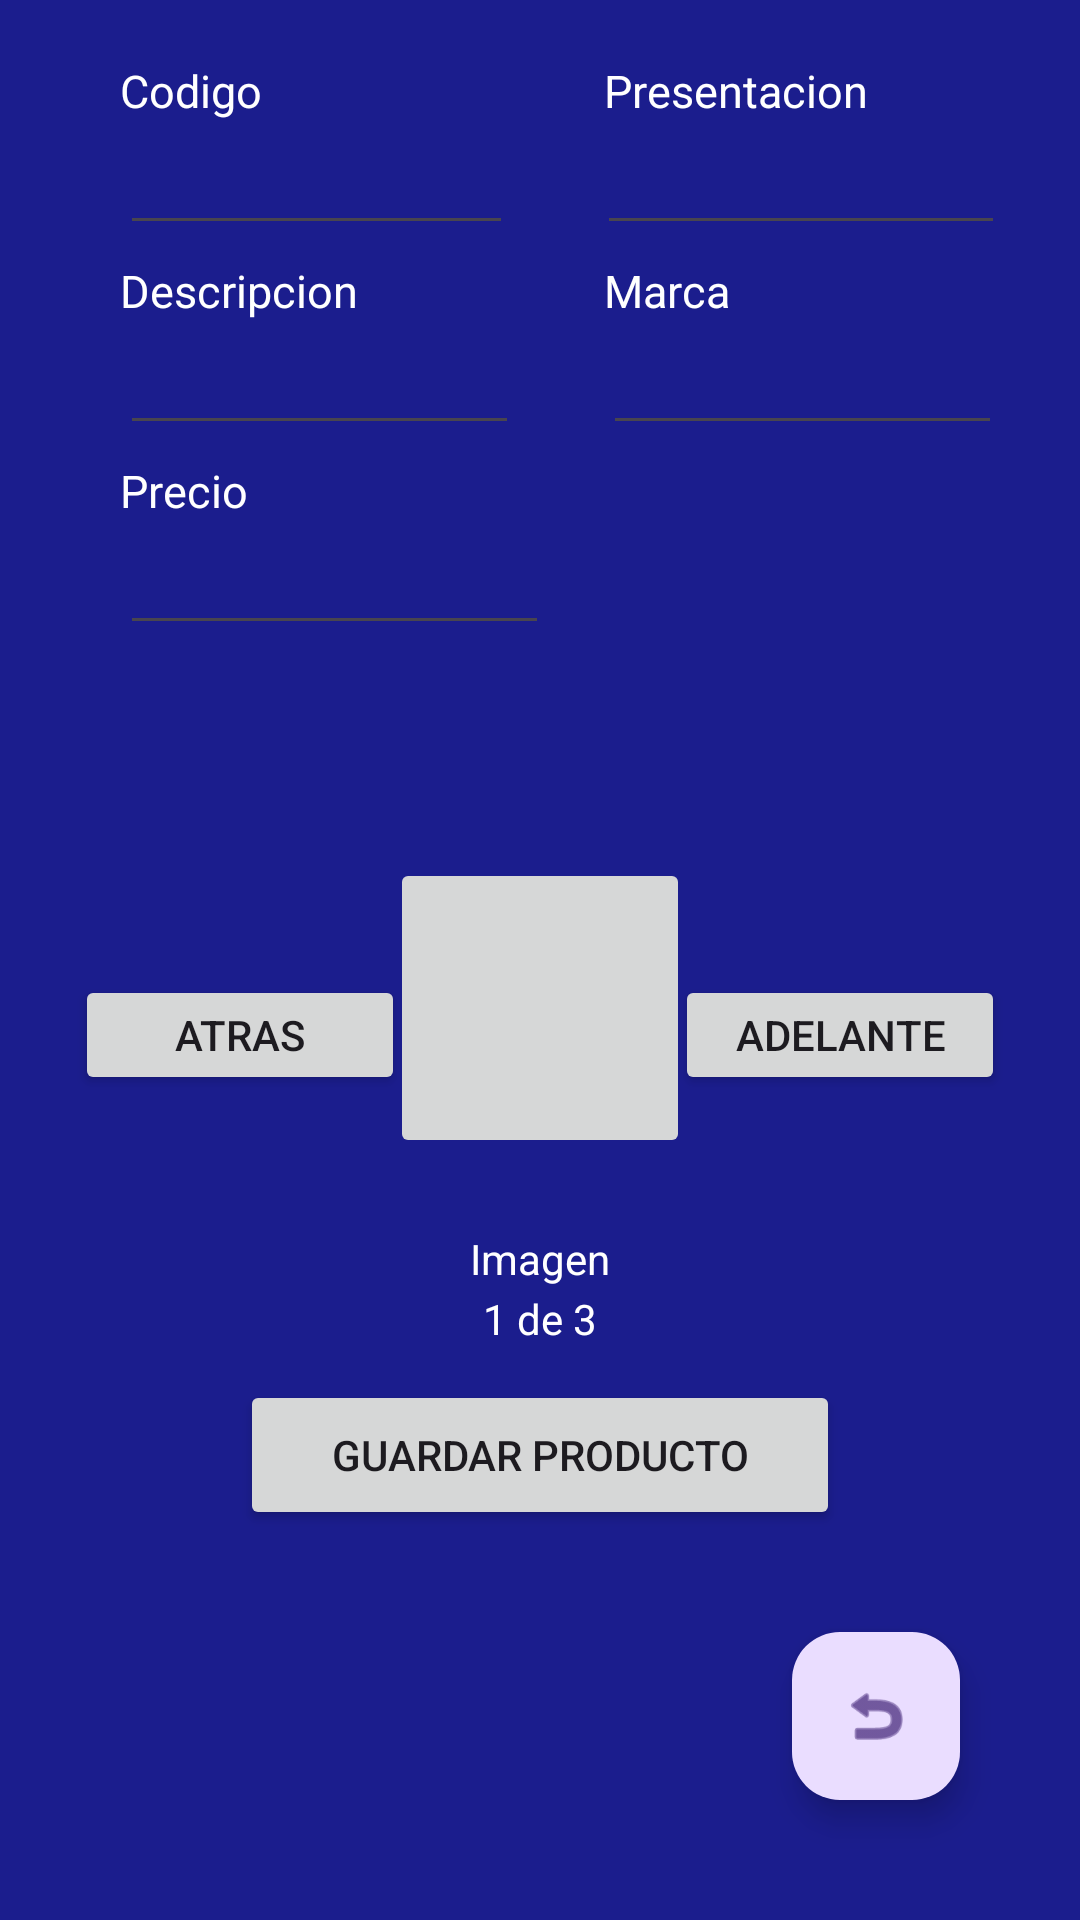

Icons on this 1080 x 1920 Android screen, each with its box as (x1, y1, x2, y2):
revert: (792, 1632, 960, 1800)
